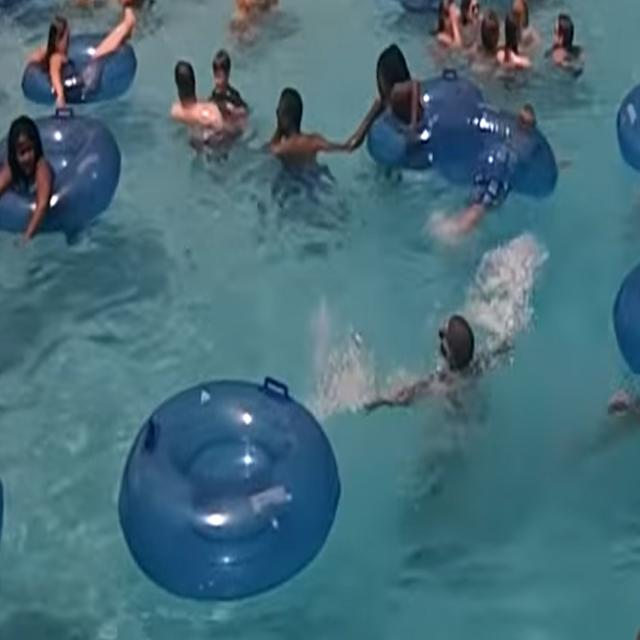Drowning: (417, 302, 500, 389)
Swimming: (260, 85, 351, 187), (469, 93, 541, 200), (0, 115, 56, 230), (367, 40, 427, 137), (167, 55, 222, 135), (208, 47, 246, 120)
